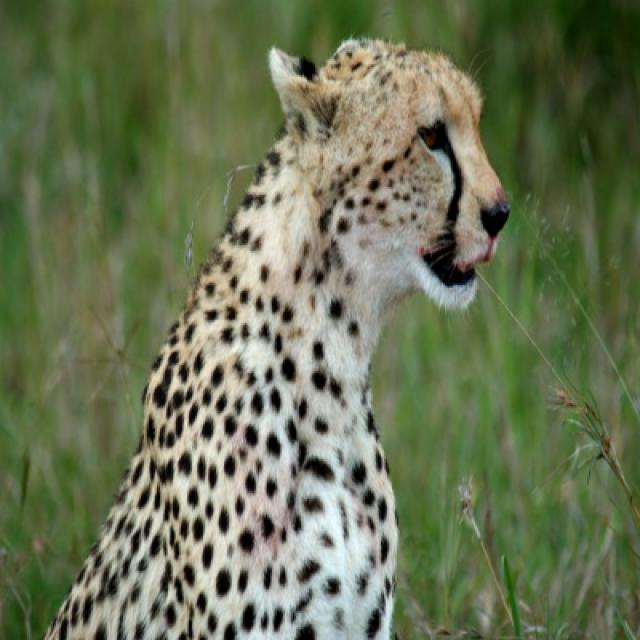Cheetah: (40, 38, 510, 638)
